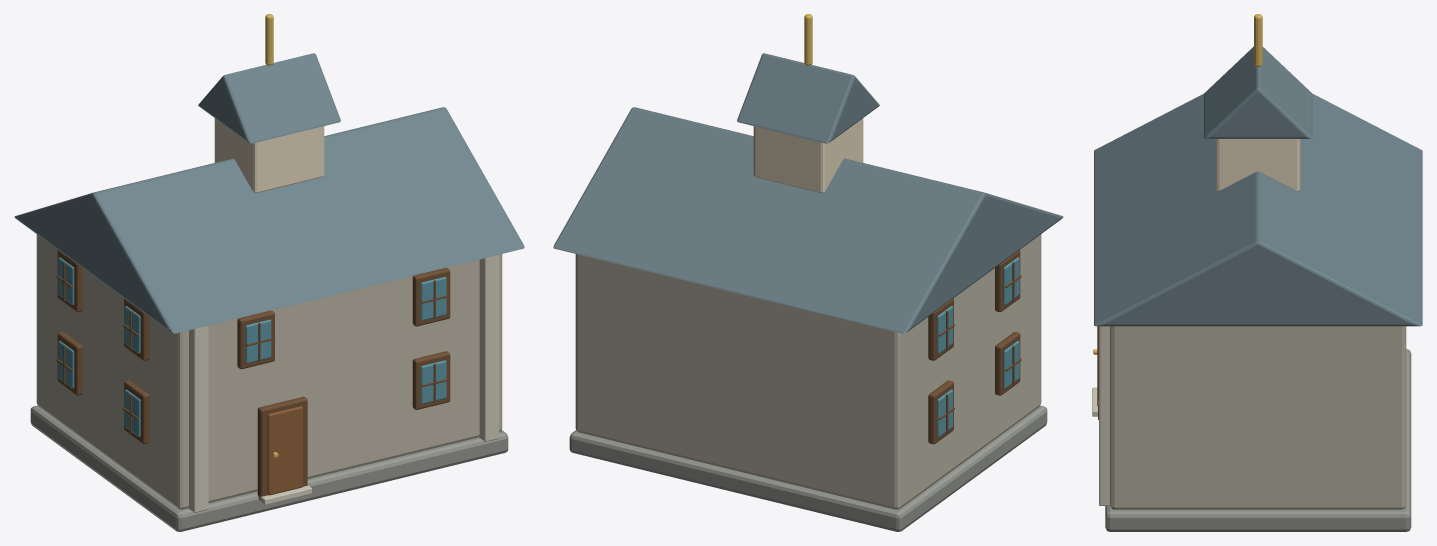
The model's file is temperate-civic-0.glb.
3 renders of one model, left to right at view 1: azimuth 30°, elevation 25°; view 2: azimuth 150°, elevation 25°; view 3: azimuth 270°, elevation 25°, orthographic. The views are drawn at different scales.
Parts seen in each view (by area): view 1: Blue slate, Warm civic stone, Foundation stone, Dark beams, Cut limestone, Blue glass, Warm lime, Door oak; view 2: Warm civic stone, Blue slate, Foundation stone, Warm lime, Dark beams, Blue glass; view 3: Blue slate, Warm civic stone, Foundation stone, Warm lime, Cut limestone, Warm brass.
Part boxes in pixels (bbox=[...]): Blue slate: bbox=[14, 53, 524, 333]; Warm civic stone: bbox=[36, 234, 502, 509]; Foundation stone: bbox=[30, 405, 508, 531]; Dark beams: bbox=[56, 250, 450, 499]; Cut limestone: bbox=[188, 255, 499, 512]; Blue glass: bbox=[58, 257, 446, 437]; Warm lime: bbox=[214, 118, 324, 193]; Door oak: bbox=[267, 406, 302, 495]; Warm civic stone: bbox=[575, 234, 1041, 509]; Blue slate: bbox=[553, 53, 1063, 333]; Foundation stone: bbox=[569, 405, 1047, 531]; Warm lime: bbox=[753, 118, 863, 193]; Dark beams: bbox=[928, 250, 1021, 444]; Blue glass: bbox=[937, 257, 1019, 437]; Blue slate: bbox=[1094, 46, 1422, 326]; Warm civic stone: bbox=[1110, 326, 1406, 509]; Foundation stone: bbox=[1105, 349, 1411, 531]; Warm lime: bbox=[1216, 139, 1300, 191]; Cut limestone: bbox=[1092, 326, 1109, 505]; Warm brass: bbox=[1093, 14, 1262, 354].
Size of the model in its own units: 5.24 by 6 by 4.12.
